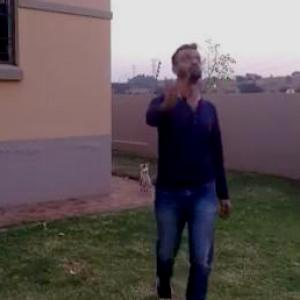takeoff-hand: (152, 76, 182, 112)
